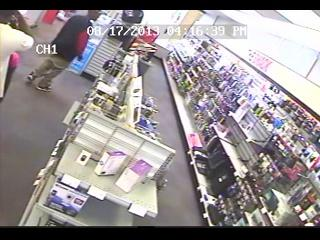Normal: (25, 13, 97, 93), (1, 20, 34, 102)
